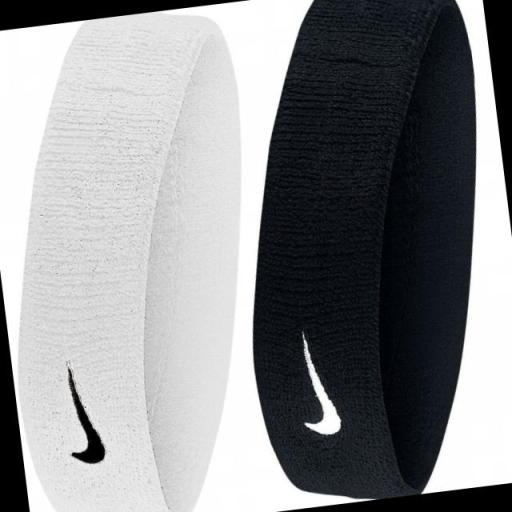Nike: (296, 326, 345, 440)
